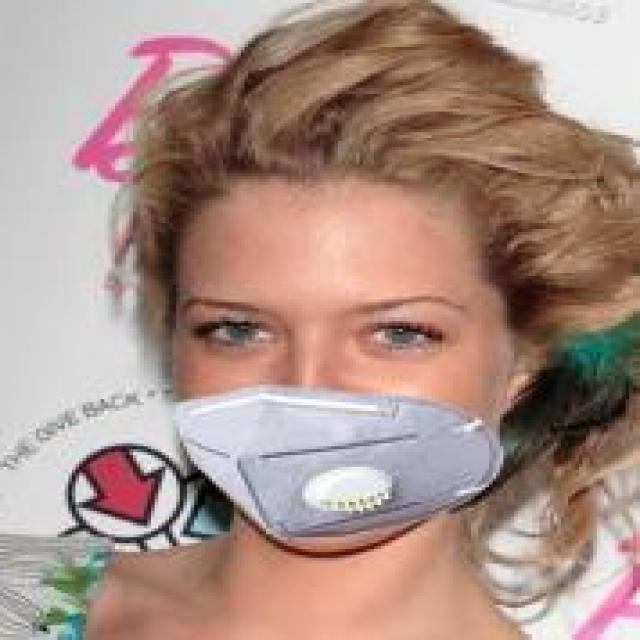mask: (65, 59, 586, 581)
